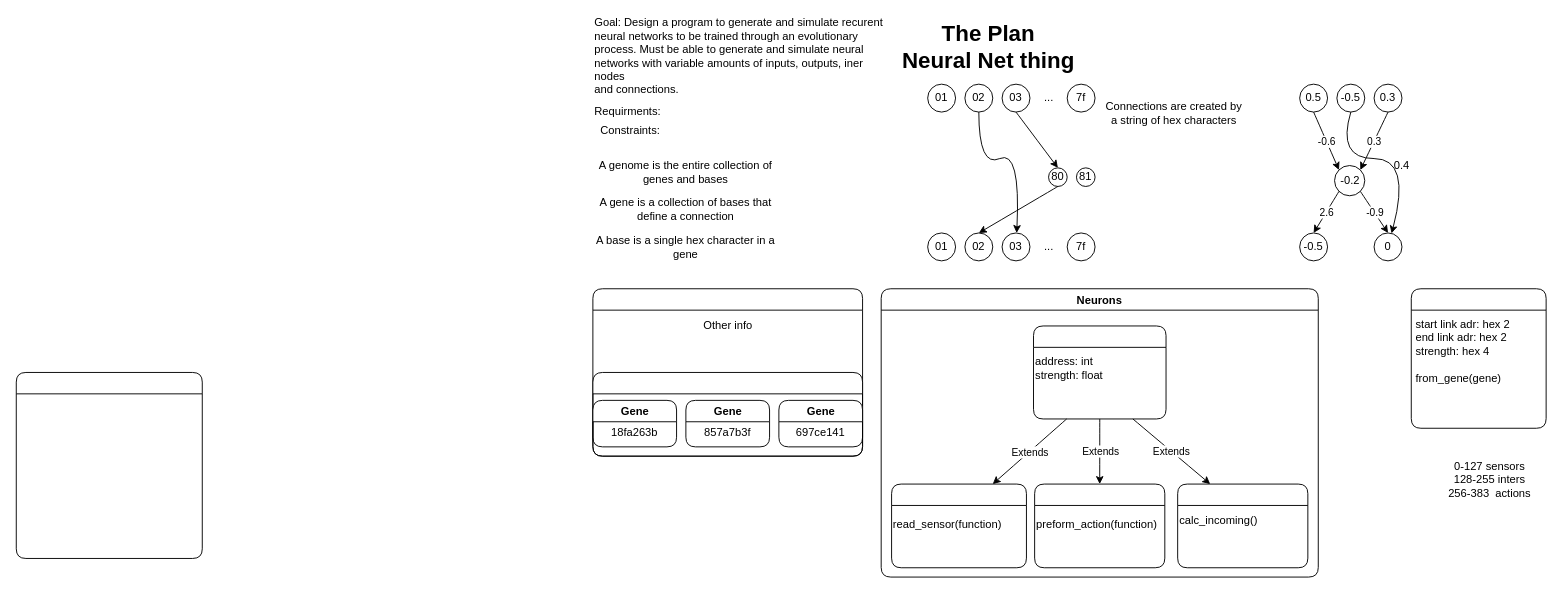
The diagram is 1562 pixels wide and 593 high, and some of its shapes have lost their labels. Here are the shapes that lost their labels. From the top down, the box of each, then its label:
(592, 288, 863, 456): Genome
(1033, 325, 1166, 419): BaseNeuron
(1410, 288, 1546, 428): Connection
(592, 372, 863, 456): Genes
(15, 372, 202, 558): Info
(891, 483, 1026, 568): SensorNeuron
(1034, 483, 1165, 568): ActionNeuron
(1177, 483, 1308, 568): InterNeuron
